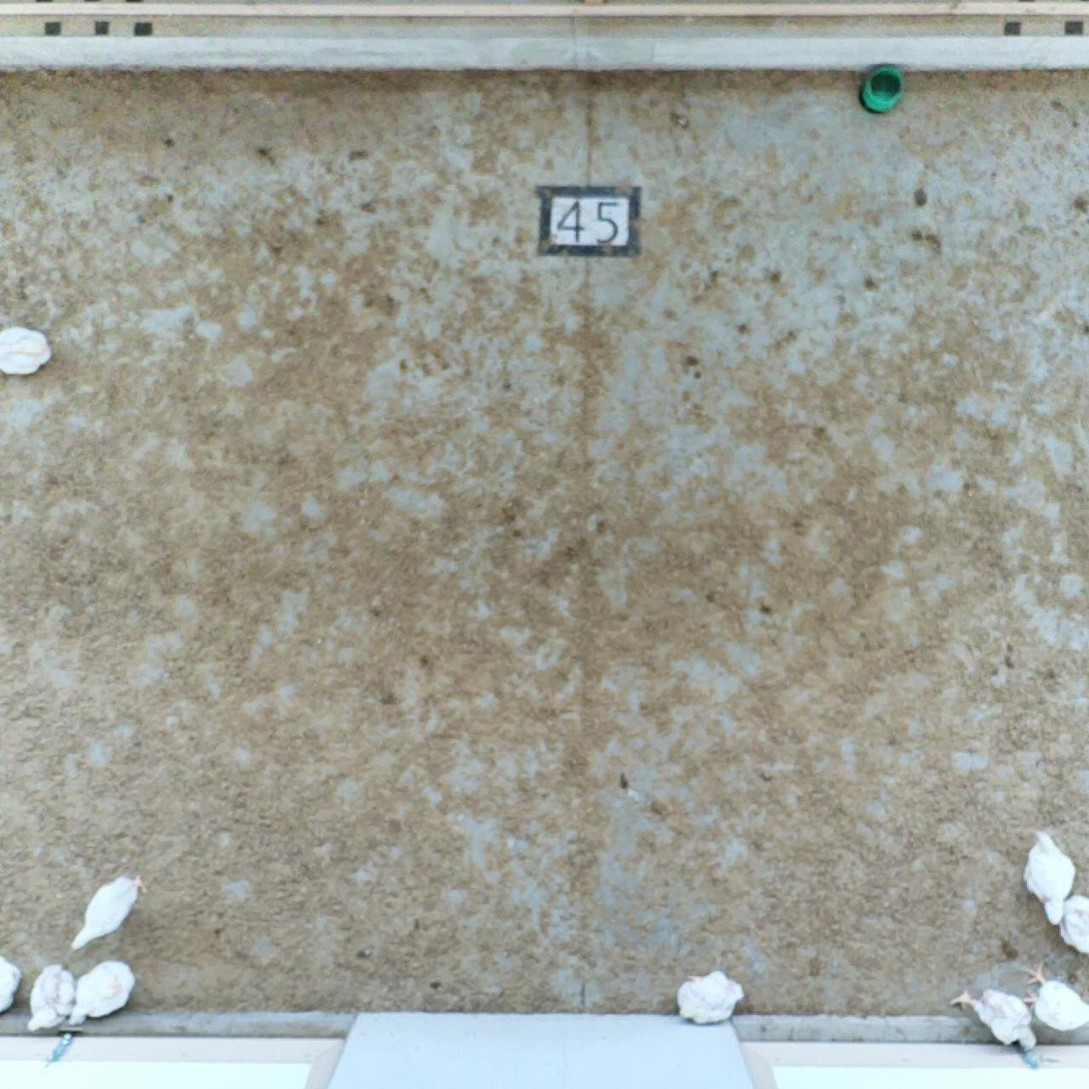chicken: (948, 977, 1046, 1060), (66, 868, 152, 956), (1018, 824, 1075, 931), (61, 957, 140, 1033), (1018, 953, 1089, 1035), (670, 965, 751, 1028), (21, 958, 83, 1035), (0, 317, 64, 391), (1057, 890, 1089, 958), (0, 948, 27, 1019)
